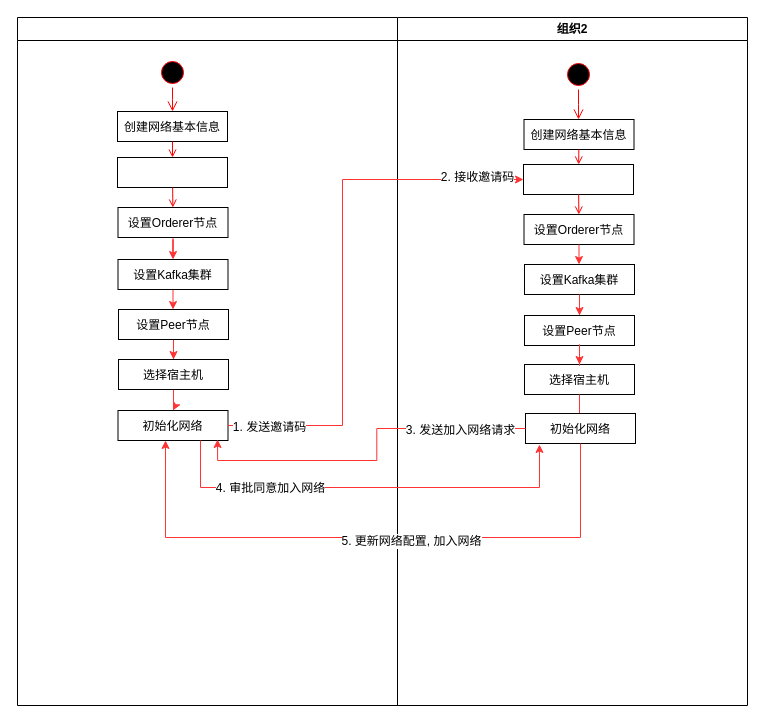
Some shapes in this 765 by 723 pixel diagram are drawn without their labels. Each missing label, with the box of its shape:
组织1: (16, 16, 398, 706)
选择共识类型: (116, 156, 228, 188)
通过邀请码导入已 有区块链网络信息: (522, 164, 634, 194)
